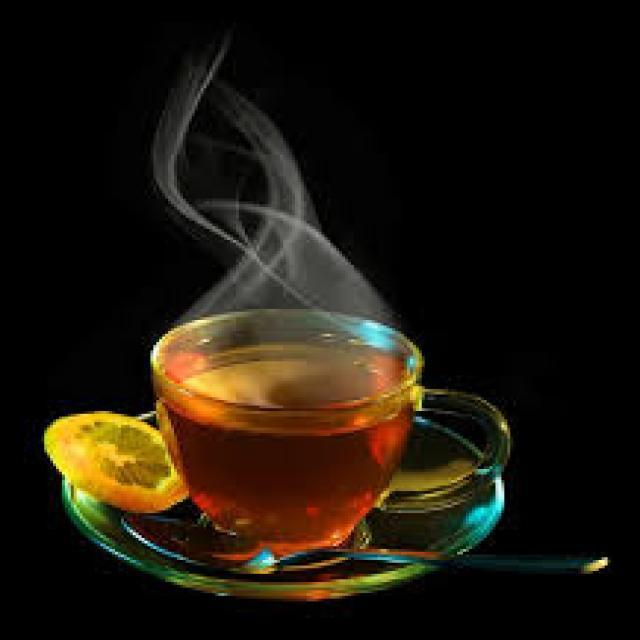taza: (116, 304, 516, 554)
